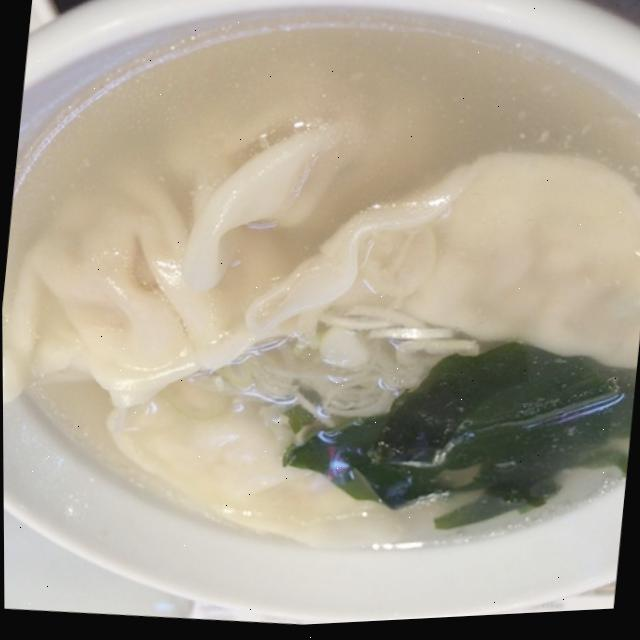带馅早点: (19, 0, 640, 620)
